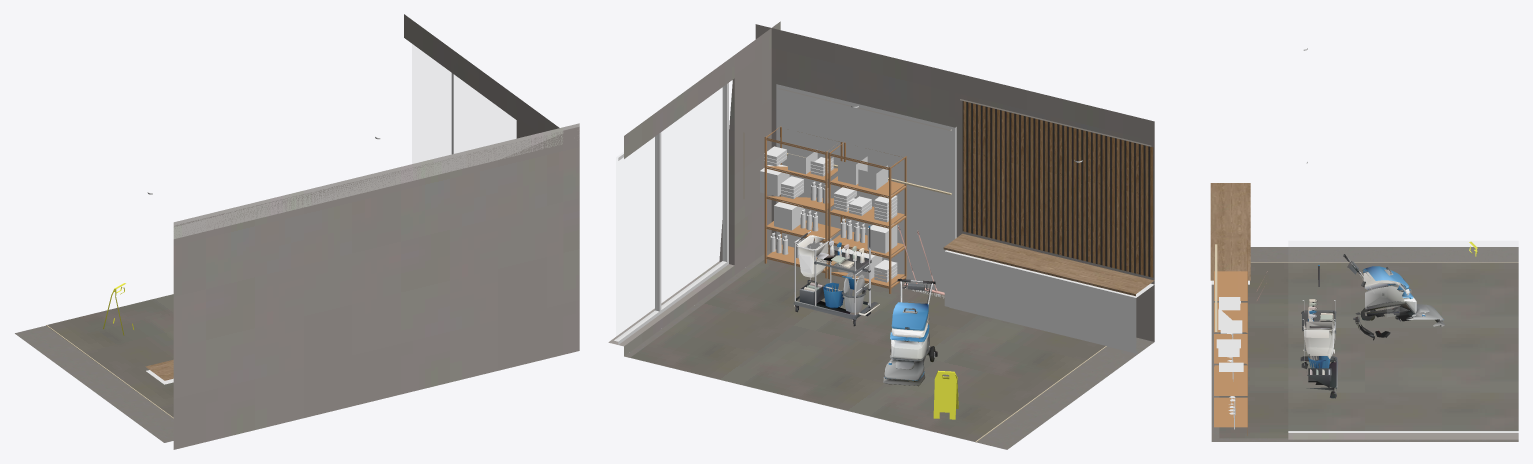
Rendered from z-equipment-lite.light.0057422a.glb.
3 renders of one model, left to right at view 1: azimuth 30°, elevation 25°; view 2: azimuth 150°, elevation 25°; view 3: azimuth 270°, elevation 25°, orthographic. The views are drawn at different scales.
Visible parts, largest first — view 1: equipment_plaster, equipment_bay_floor, equipment_carpet, equipment_satin; view 2: equipment_satin, equipment_bay_floor, equipment_plaster, equipment_proxy_slat, equipment_fx, equipment_carpet, equipment_oak, equipment_metal_satin, equipment_emit, equipment_metal_chrome; view 3: equipment_bay_floor, equipment_carpet, equipment_satin, equipment_fx, equipment_oak, equipment_plaster, equipment_metal_satin.
Boxes of the visible parts, left/top/right/bottom form: equipment_plaster: left=173, top=14, right=579, bottom=449; equipment_bay_floor: left=47, top=294, right=173, bottom=417; equipment_carpet: left=15, top=325, right=173, bottom=442; equipment_satin: left=103, top=73, right=453, bottom=384; equipment_satin: left=614, top=83, right=1154, bottom=419; equipment_bay_floor: left=631, top=257, right=1105, bottom=441; equipment_plaster: left=608, top=21, right=1154, bottom=355; equipment_proxy_slat: left=962, top=101, right=1153, bottom=277; equipment_fx: left=793, top=226, right=937, bottom=386; equipment_carpet: left=624, top=250, right=1154, bottom=449; equipment_oak: left=943, top=233, right=1154, bottom=296; equipment_metal_satin: left=743, top=132, right=1106, bottom=441; equipment_emit: left=778, top=88, right=1151, bottom=146; equipment_metal_chrome: left=794, top=231, right=870, bottom=315; equipment_bay_floor: left=1219, top=263, right=1518, bottom=438; equipment_carpet: left=1211, top=247, right=1518, bottom=441; equipment_satin: left=1211, top=48, right=1518, bottom=435; equipment_fx: left=1300, top=254, right=1444, bottom=398; equipment_oak: left=1210, top=183, right=1250, bottom=280; equipment_plaster: left=1288, top=433, right=1518, bottom=439; equipment_metal_satin: left=1215, top=244, right=1518, bottom=359.
Bounding box in the file's own units: 6.25 × 3.35 × 4.25.
Materials: 11 (6 with a texture image).
